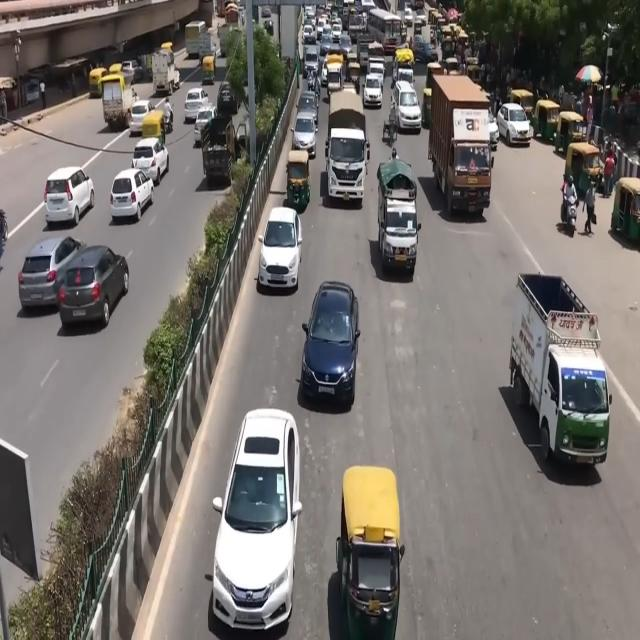auto: (339, 445, 404, 640), (564, 140, 603, 200), (610, 177, 640, 244), (284, 150, 311, 210), (554, 110, 586, 157), (532, 98, 560, 144), (141, 110, 166, 148), (508, 88, 534, 123), (89, 68, 108, 99), (202, 54, 216, 86), (466, 62, 483, 88), (422, 86, 432, 128)
bike-auto: (561, 173, 578, 226), (583, 178, 597, 234)
